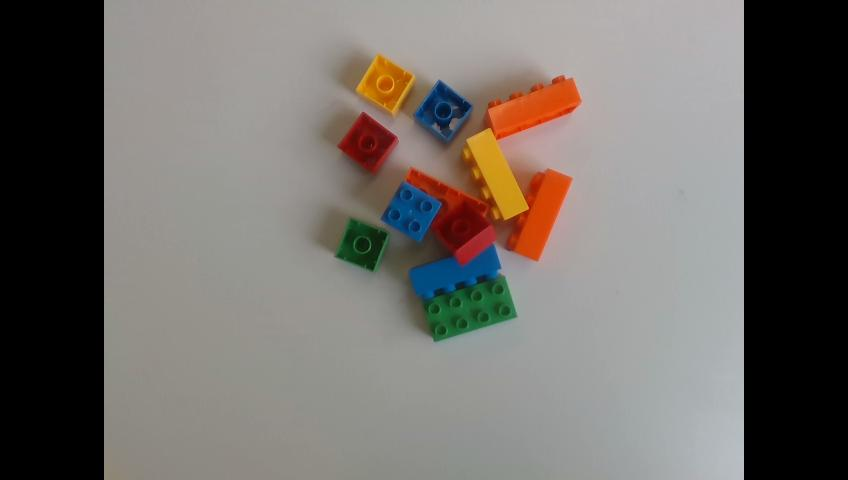2x2_blue: (411, 81, 473, 146), (381, 180, 442, 243)
2x2_green: (333, 217, 393, 273)
2x2_red: (431, 202, 497, 264), (337, 111, 398, 174)
2x2_yellow: (355, 54, 416, 118)
4x2_blue: (409, 243, 502, 299)
4x2_green: (422, 276, 519, 343)
4x2_orange: (479, 75, 582, 140), (505, 169, 572, 262), (407, 168, 489, 219)
4x2_yellow: (460, 129, 531, 220)
